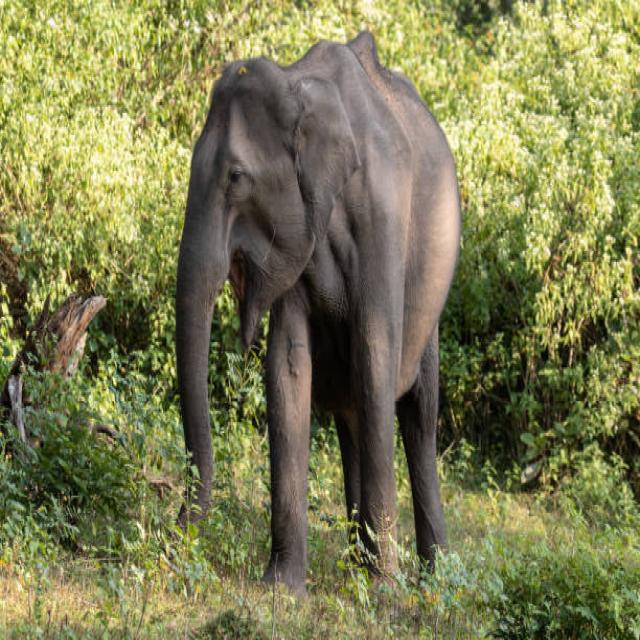Elephant: (168, 30, 468, 611)
